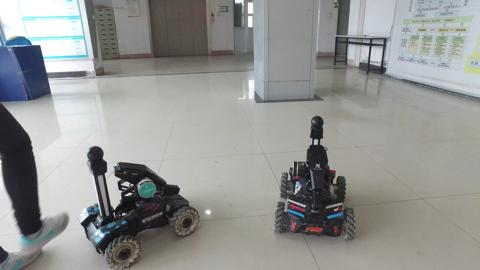chariot: (76, 143, 209, 269), (270, 110, 362, 246)
